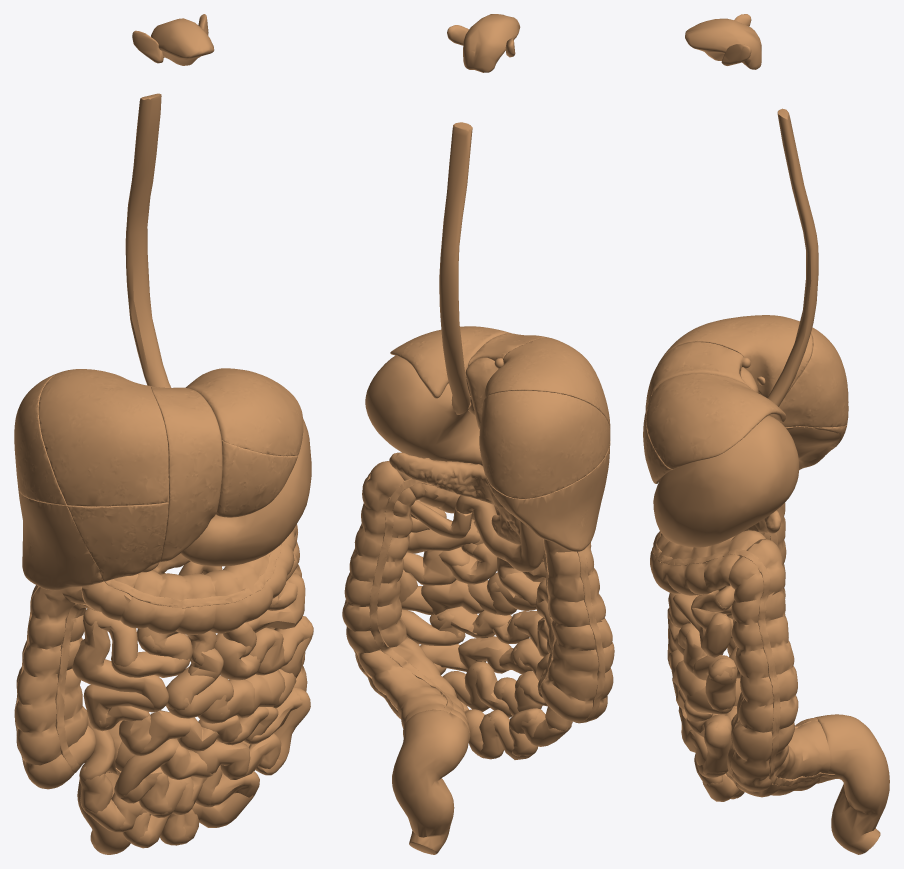
File: digestive.glb
3 renders of one model, left to right at view 1: azimuth 30°, elevation 25°; view 2: azimuth 150°, elevation 25°; view 3: azimuth 270°, elevation 25°, orthographic. The views are drawn at different scales.
Parts seen in each view (by area): view 1: liver, small-intestine, large-intestine, esophagus, stomach, tongue, submandibular-glands; view 2: large-intestine, small-intestine, liver, stomach, esophagus, pancreas, tongue; view 3: large-intestine, liver, stomach, small-intestine, esophagus, tongue, submandibular-glands.
Boxes of the visible parts, left/top/right/bottom form: liver: left=14, top=368, right=303, bottom=590; small-intestine: left=72, top=553, right=313, bottom=848; large-intestine: left=14, top=524, right=307, bottom=854; esophagus: left=125, top=93, right=171, bottom=387; stomach: left=180, top=418, right=311, bottom=566; tongue: left=151, top=18, right=214, bottom=65; submandibular-glands: left=132, top=14, right=208, bottom=63; large-intestine: left=342, top=461, right=614, bottom=854; small-intestine: left=399, top=495, right=572, bottom=759; liver: left=390, top=326, right=610, bottom=551; stomach: left=365, top=355, right=482, bottom=465; esophagus: left=439, top=122, right=472, bottom=414; pancreas: left=389, top=452, right=520, bottom=544; tongue: left=463, top=14, right=520, bottom=72; large-intestine: left=650, top=503, right=889, bottom=854; liver: left=643, top=315, right=848, bottom=483; stomach: left=653, top=415, right=799, bottom=547; small-intestine: left=667, top=532, right=764, bottom=801; esophagus: left=767, top=108, right=818, bottom=406; tongue: left=685, top=18, right=761, bottom=69; submandibular-glands: left=721, top=14, right=751, bottom=65.
Bounding box in the file's own units: 0.4885 × 1.42 × 0.3822.
